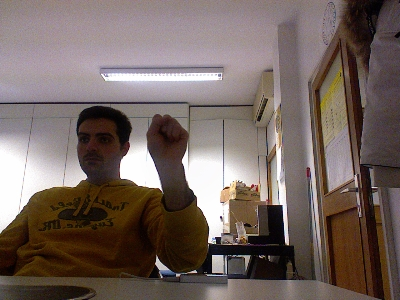石头: (145, 113, 188, 167)
